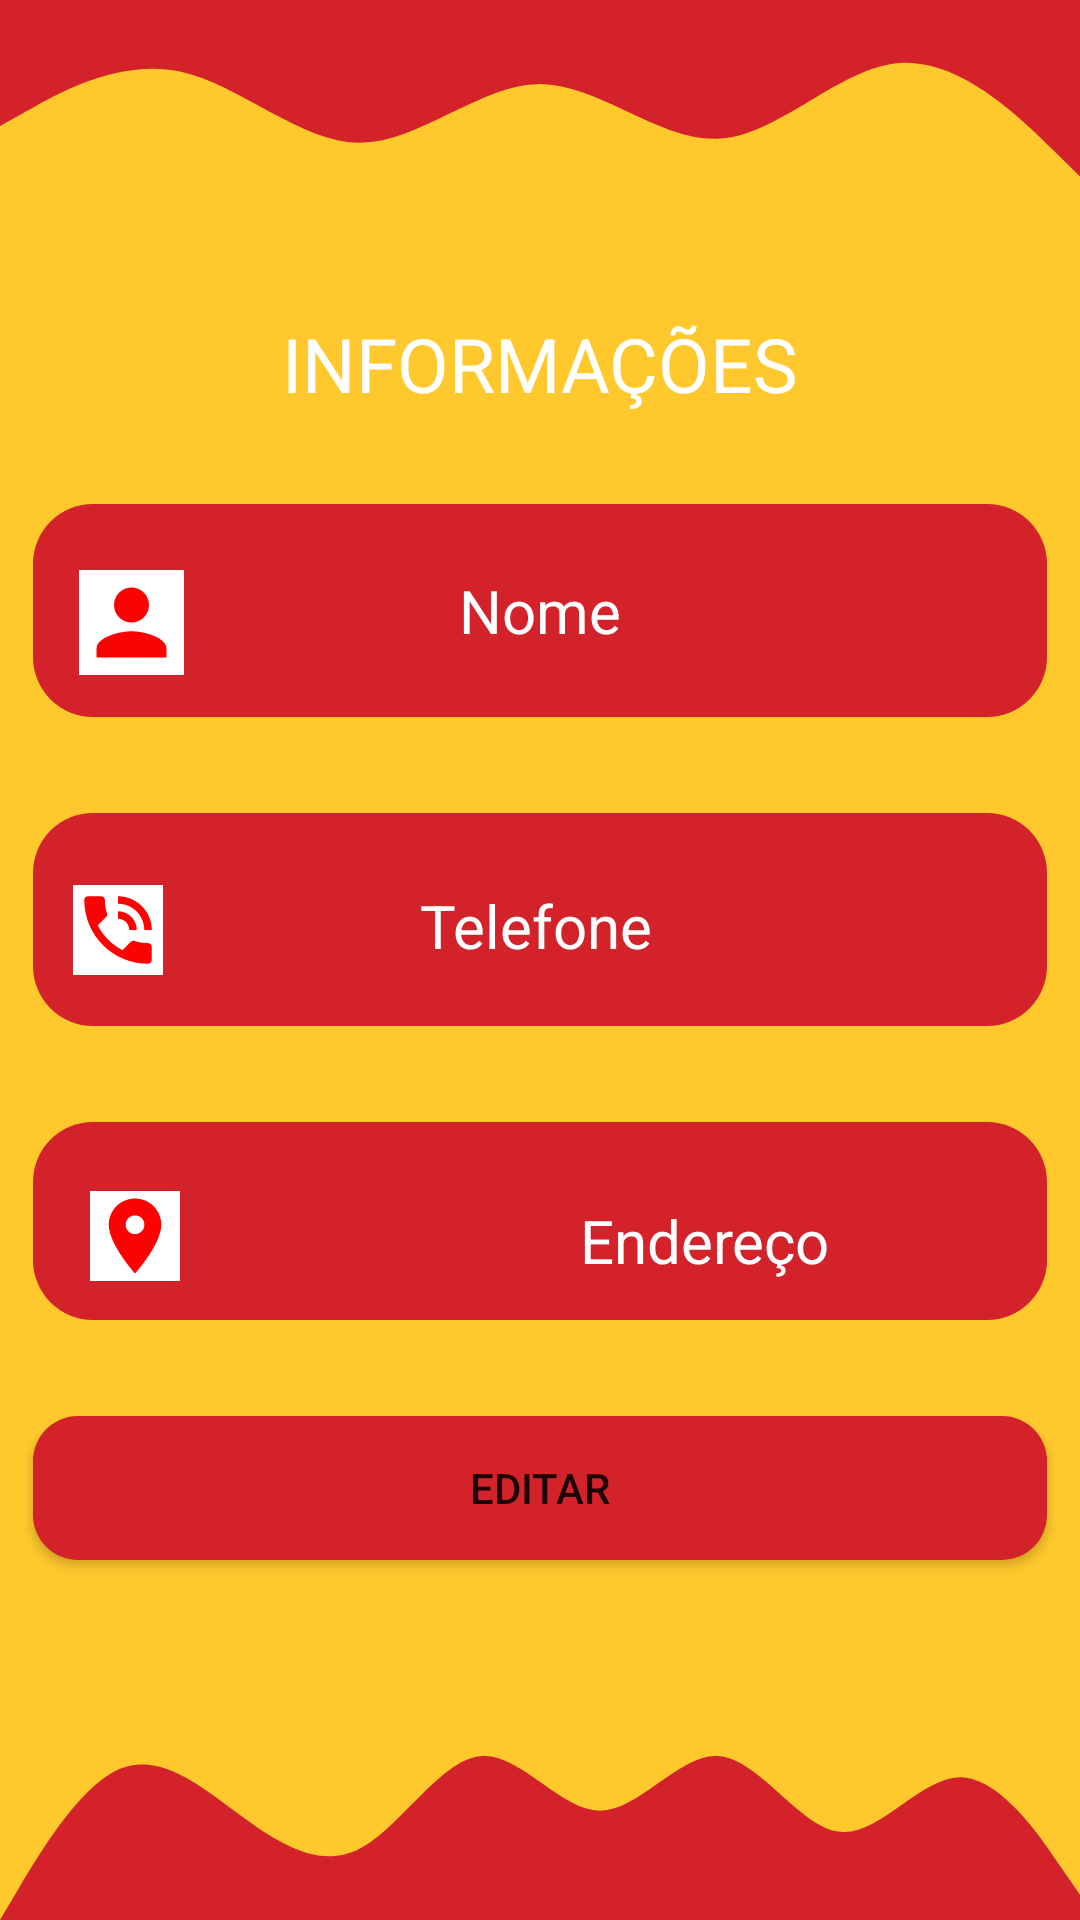

Point at icon controls on the screen. Image size 1080 × 1920, points as (x,y).
person: (131,622)
phone in talk: (118,930)
place: (135,1236)
